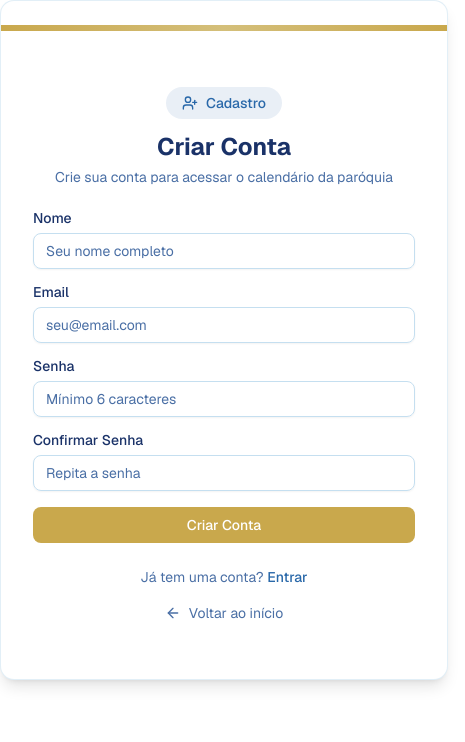
Test: RegisterForm › shows error when passwords don't match
The width and height of the screenshot is (465, 742).
Type "Test" into the field labelled "Nome". click: (224, 251)
box: top-left (33, 233), bottom-right (415, 269)
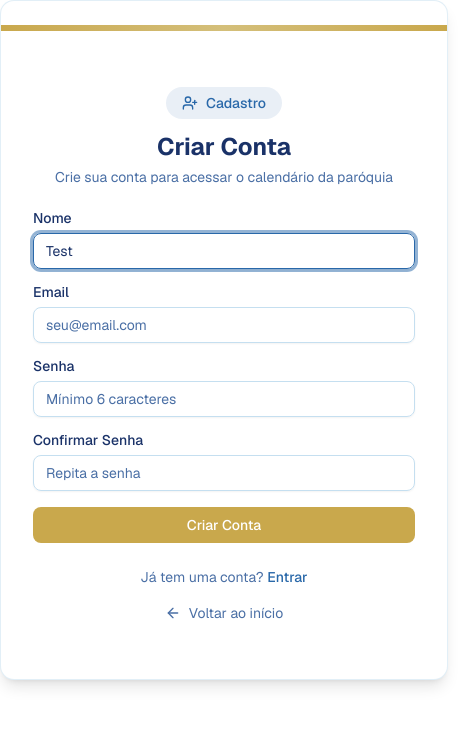
Type "test@test.com" into the field labelled "Email". click: (224, 325)
box: top-left (33, 307), bottom-right (415, 343)
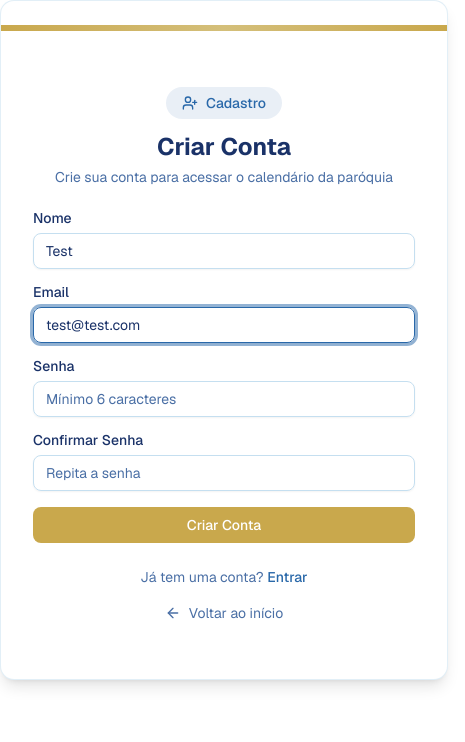
Type "password123" into the password field labelled "Senha". click: (224, 399)
box: top-left (33, 381), bottom-right (415, 417)
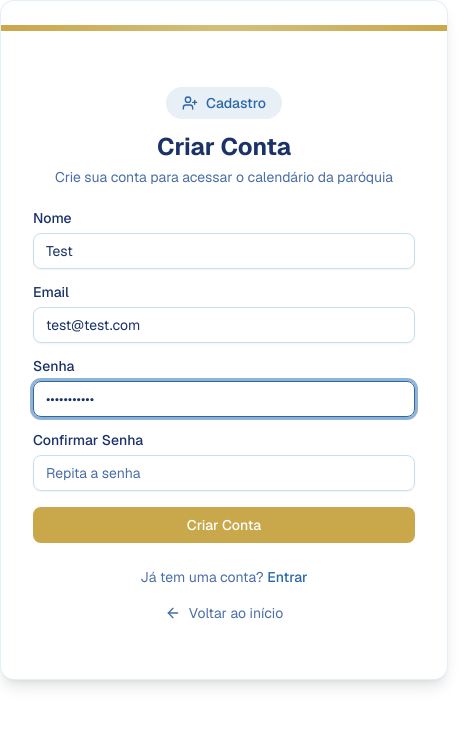
Type "different" into the password field labelled "Confirmar Senha". click: (224, 473)
box: top-left (33, 455), bottom-right (415, 491)
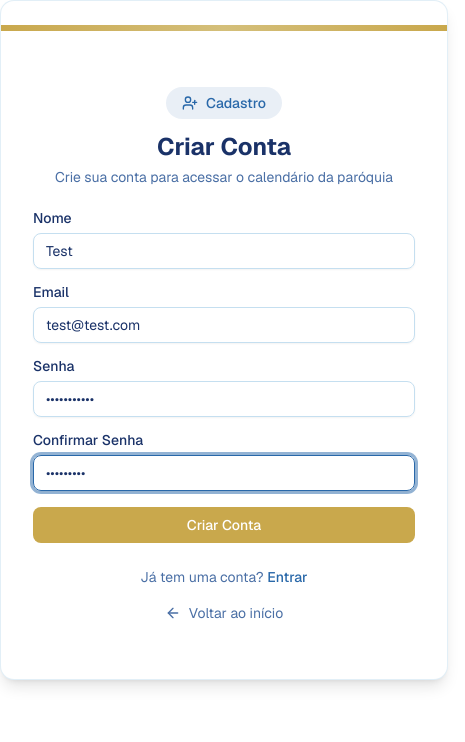
Click the button "Criar Conta". click: (224, 525)
box: top-left (33, 507), bottom-right (415, 543)
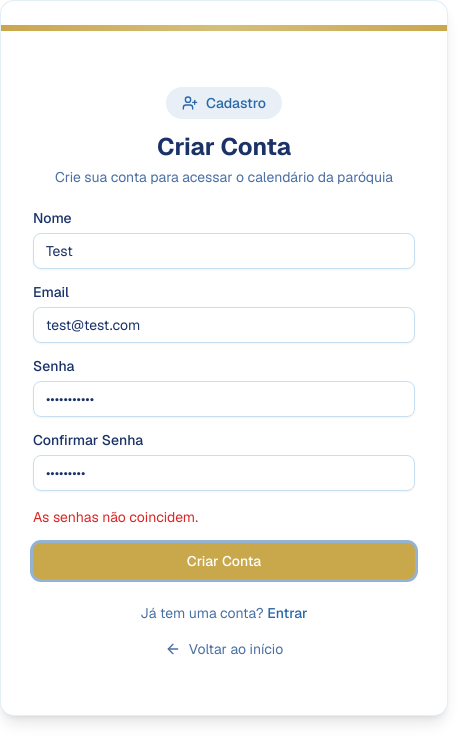
Expected: the text "As senhas não coincidem." is shown, top-left (33, 508), bottom-right (198, 526)
